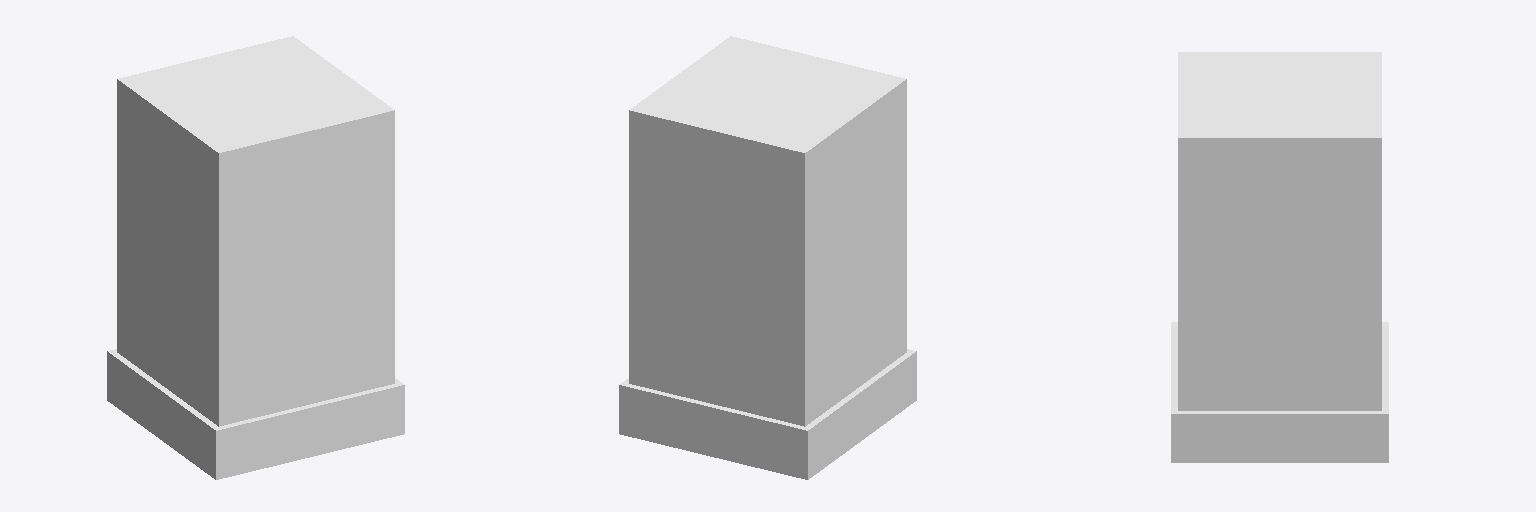
Rendered from FILAR.obj.
The picture shows the model from 3 angles: view 1: azimuth 30°, elevation 25°; view 2: azimuth 150°, elevation 25°; view 3: azimuth 270°, elevation 25°; orthographic projection.
Visible parts, largest first — view 1: object 1; view 2: object 1; view 3: object 1.
Part boxes in pixels (x1,y1,x2,y2): object 1: (107,36,404,479); object 1: (619,36,916,479); object 1: (1171,52,1388,462).
Size of the model in its own units: 6 by 9.8 by 6.